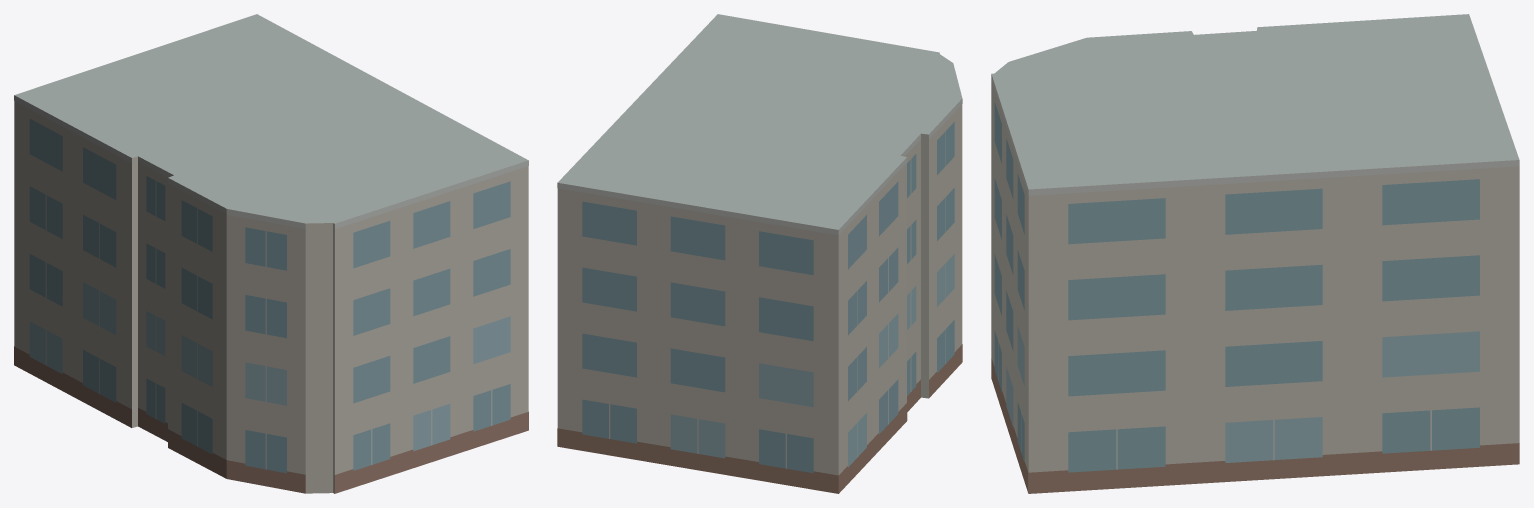
Rendered from survey-upis-32667274.glb.
The picture shows the model from 3 angles, left to right: view 1: azimuth 30°, elevation 25°; view 2: azimuth 150°, elevation 25°; view 3: azimuth 270°, elevation 25°; orthographic projection. The views are drawn at different scales.
Parts seen in each view (by area): view 1: survey-upis-32667274.tmp; view 2: survey-upis-32667274.tmp; view 3: survey-upis-32667274.tmp.
Part boxes in pixels (x1,y1,x2,y2): survey-upis-32667274.tmp: [14, 14, 528, 493]; survey-upis-32667274.tmp: [557, 14, 962, 493]; survey-upis-32667274.tmp: [991, 14, 1519, 493].
Bounding box in the file's own units: 14.6 × 11.8 × 18.57.
